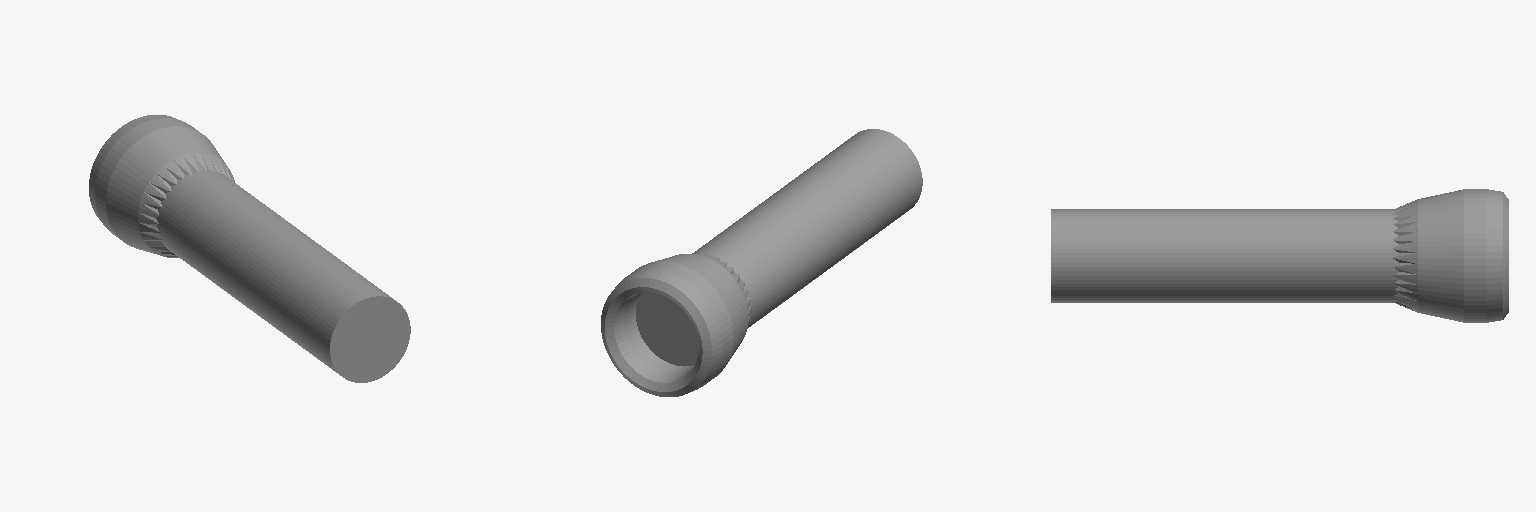
File: Torch1.obj
3 renders of one model, left to right at view 1: azimuth 30°, elevation 25°; view 2: azimuth 150°, elevation 25°; view 3: azimuth 270°, elevation 25°, orthographic.
Parts seen in each view (by area): view 1: Cylinder_Cylinder.003; view 2: Cylinder_Cylinder.003; view 3: Cylinder_Cylinder.003.
Boxes of the visible parts, box(x1,y1,x2,y2) form: Cylinder_Cylinder.003: box(89, 115, 410, 382); Cylinder_Cylinder.003: box(601, 129, 922, 396); Cylinder_Cylinder.003: box(1051, 189, 1508, 322).
Bounding box in the file's own units: 0.1427 × 0.1427 × 0.4877.